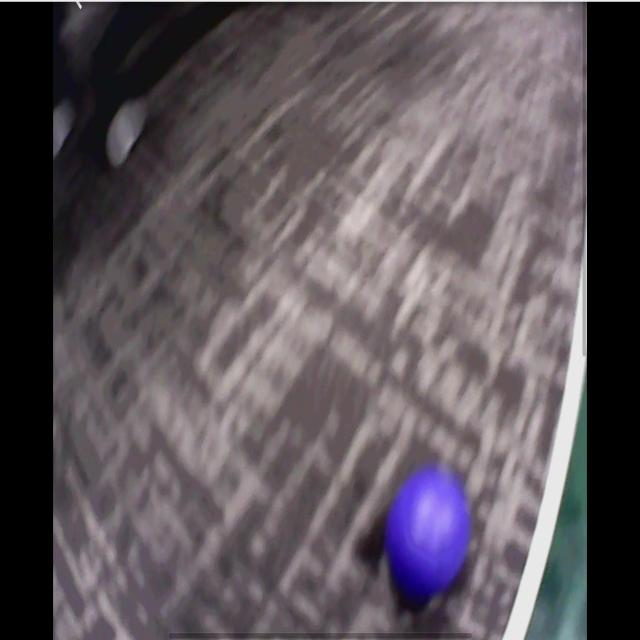ball: (389, 472, 468, 587)
